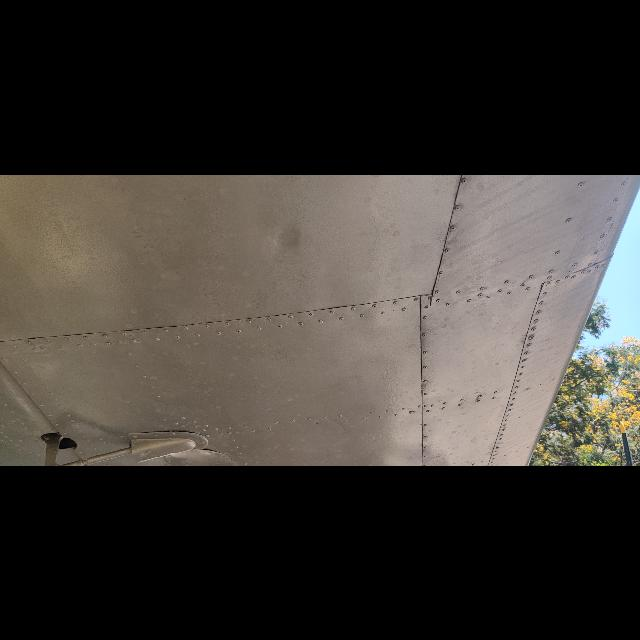dent: (266, 218, 310, 262)
